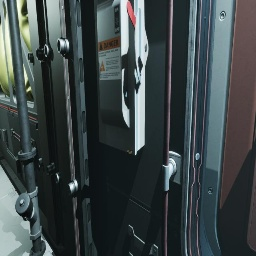SafetySwitchPanel ,: (94, 0, 148, 156)
